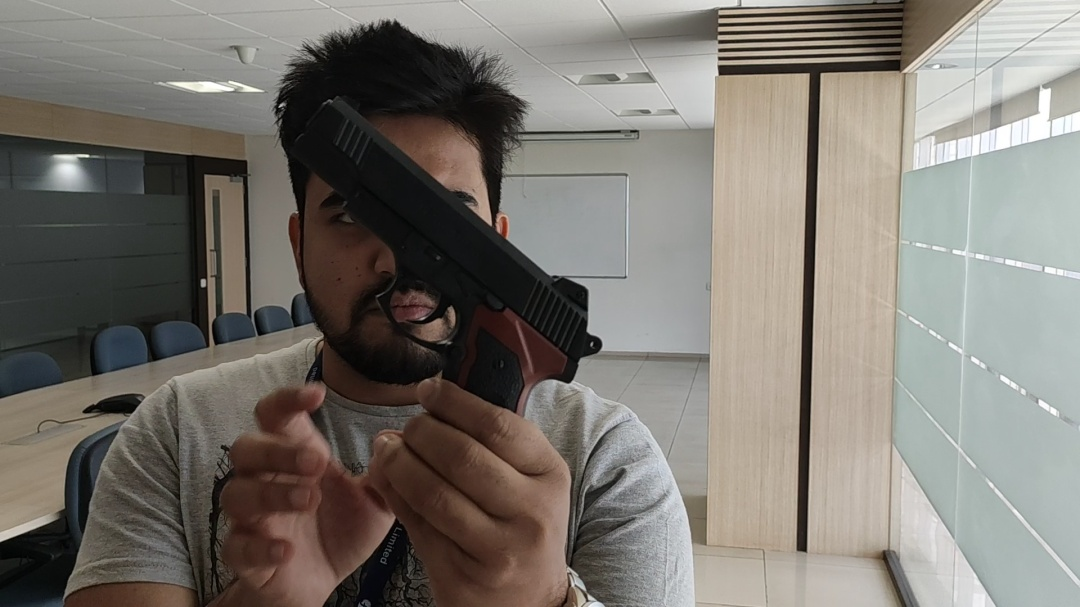gun: (278, 101, 609, 411)
